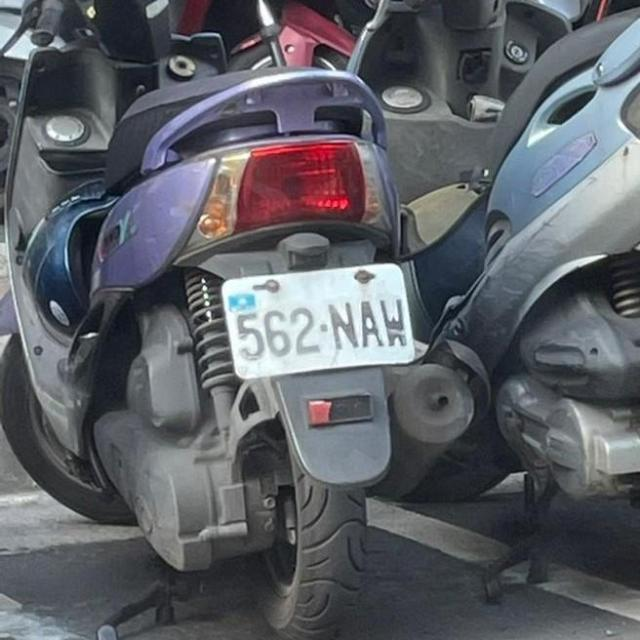W: (216, 251, 424, 384)
